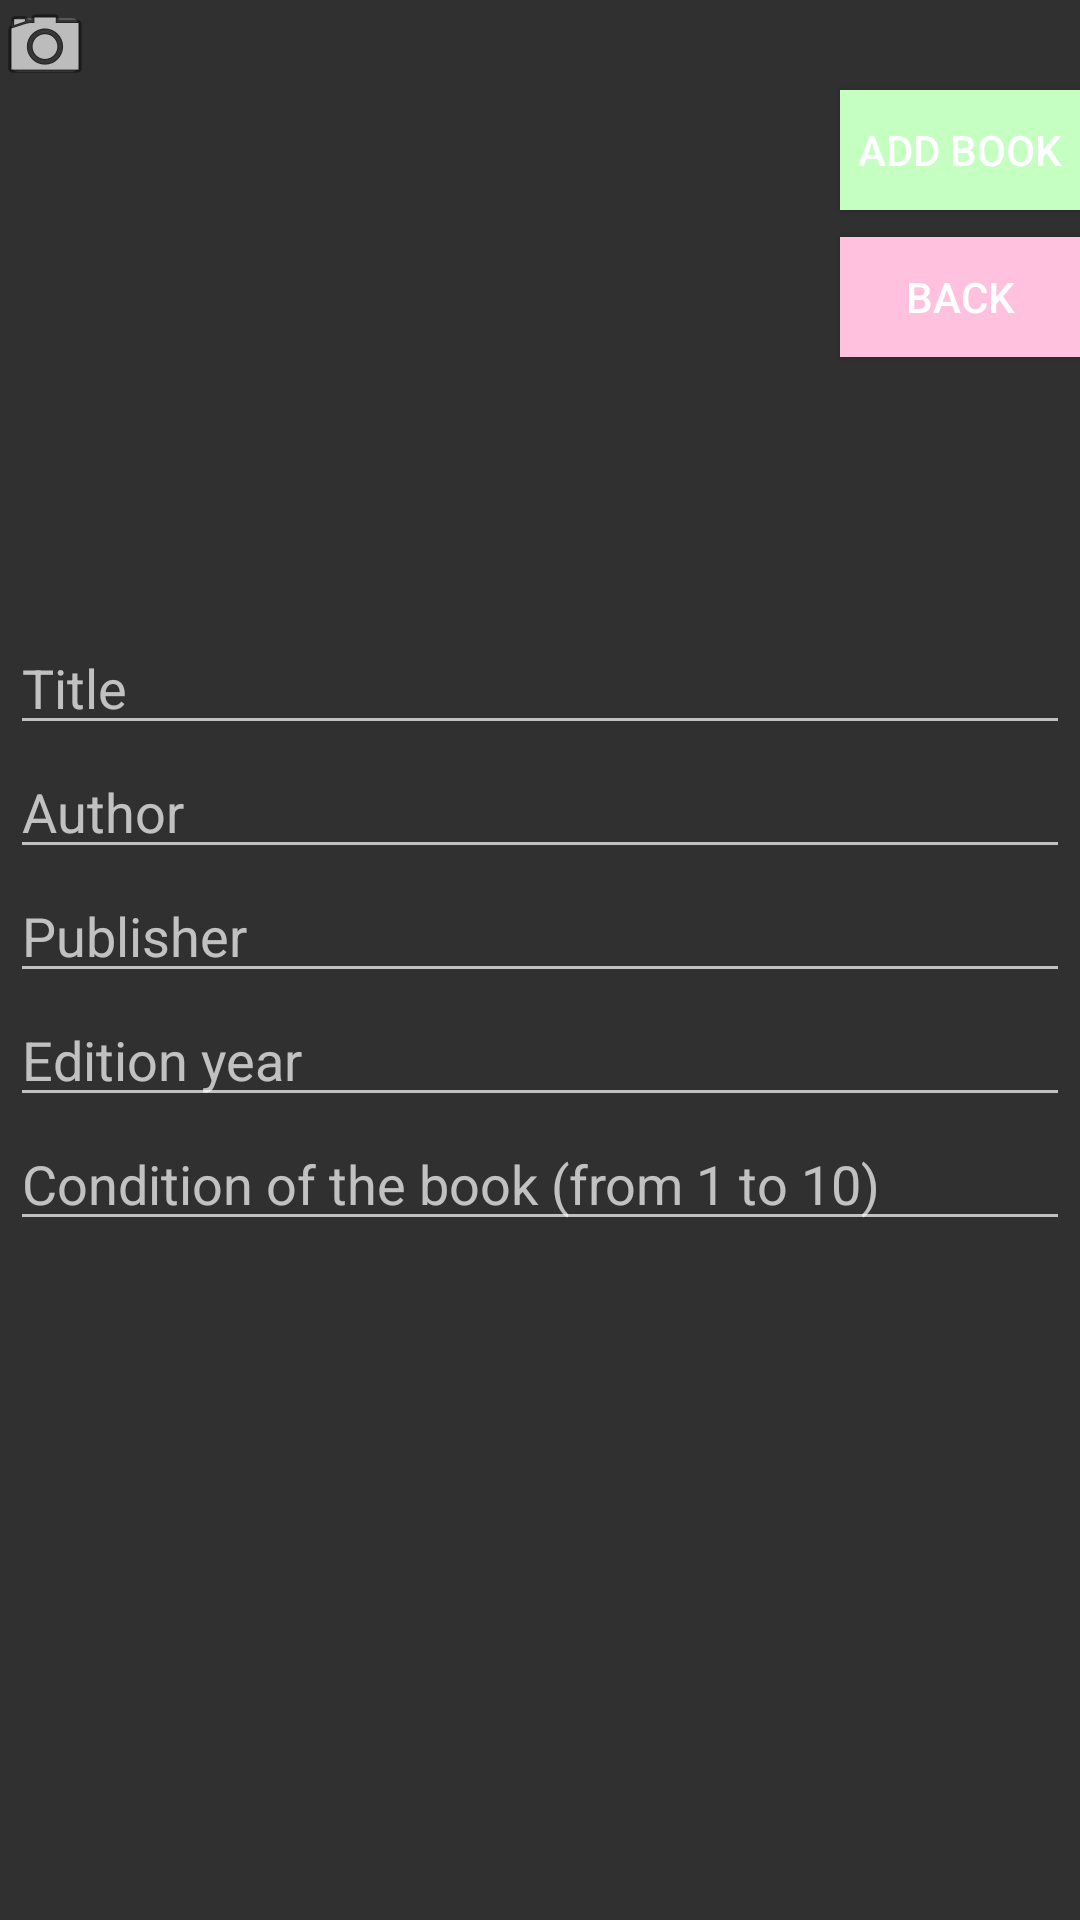

Named icons in this screenshot (1080 x 1920) and their bounding boxes, (x1=x1, y1=y1, x2=x2, y2=y2):
camera: (x1=10, y1=16, x2=80, y2=71)
